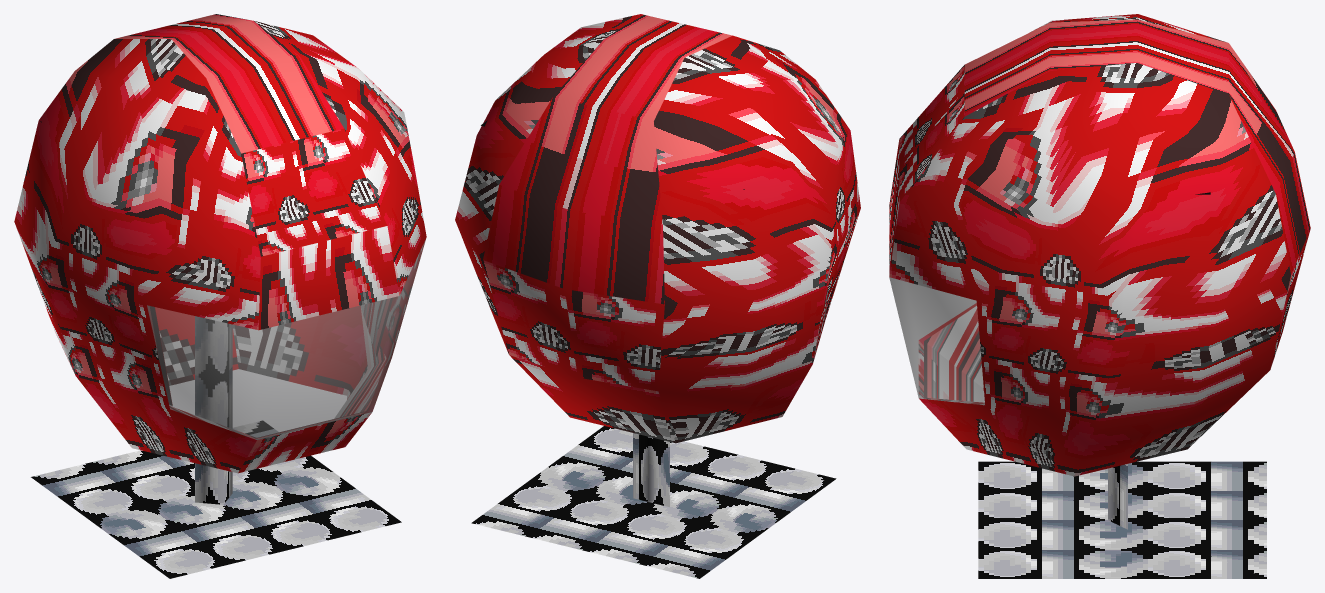
The model's file is 2921head048_c.gltf.
3 renders of one model, left to right at view 1: azimuth 30°, elevation 25°; view 2: azimuth 150°, elevation 25°; view 3: azimuth 270°, elevation 25°, orthographic. The views are drawn at different scales.
Parts seen in each view (by area): view 1: 2921head048_c; view 2: 2921head048_c; view 3: 2921head048_c.
Part boxes in pixels (x1,y1,x2,y2): 2921head048_c: [14, 14, 426, 578]; 2921head048_c: [455, 14, 860, 578]; 2921head048_c: [889, 14, 1310, 578].
Size of the model in its own units: 0.7085 by 0.8923 by 0.7014.
3 materials, 2 textured.
